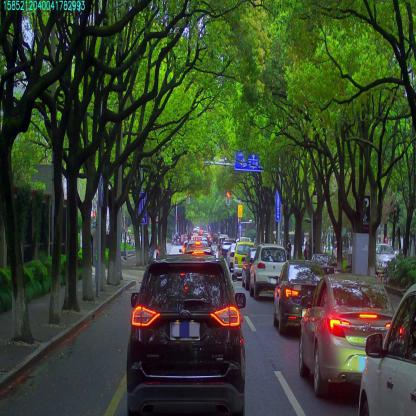traffic-light: (186, 190, 190, 203), (227, 191, 229, 205)
